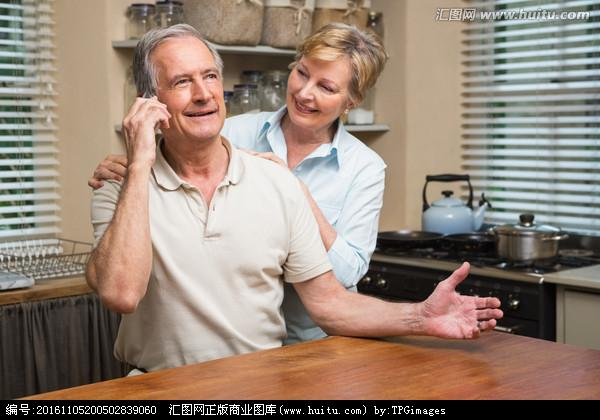calling: (120, 85, 173, 160)
no-phone: (417, 260, 506, 342)
